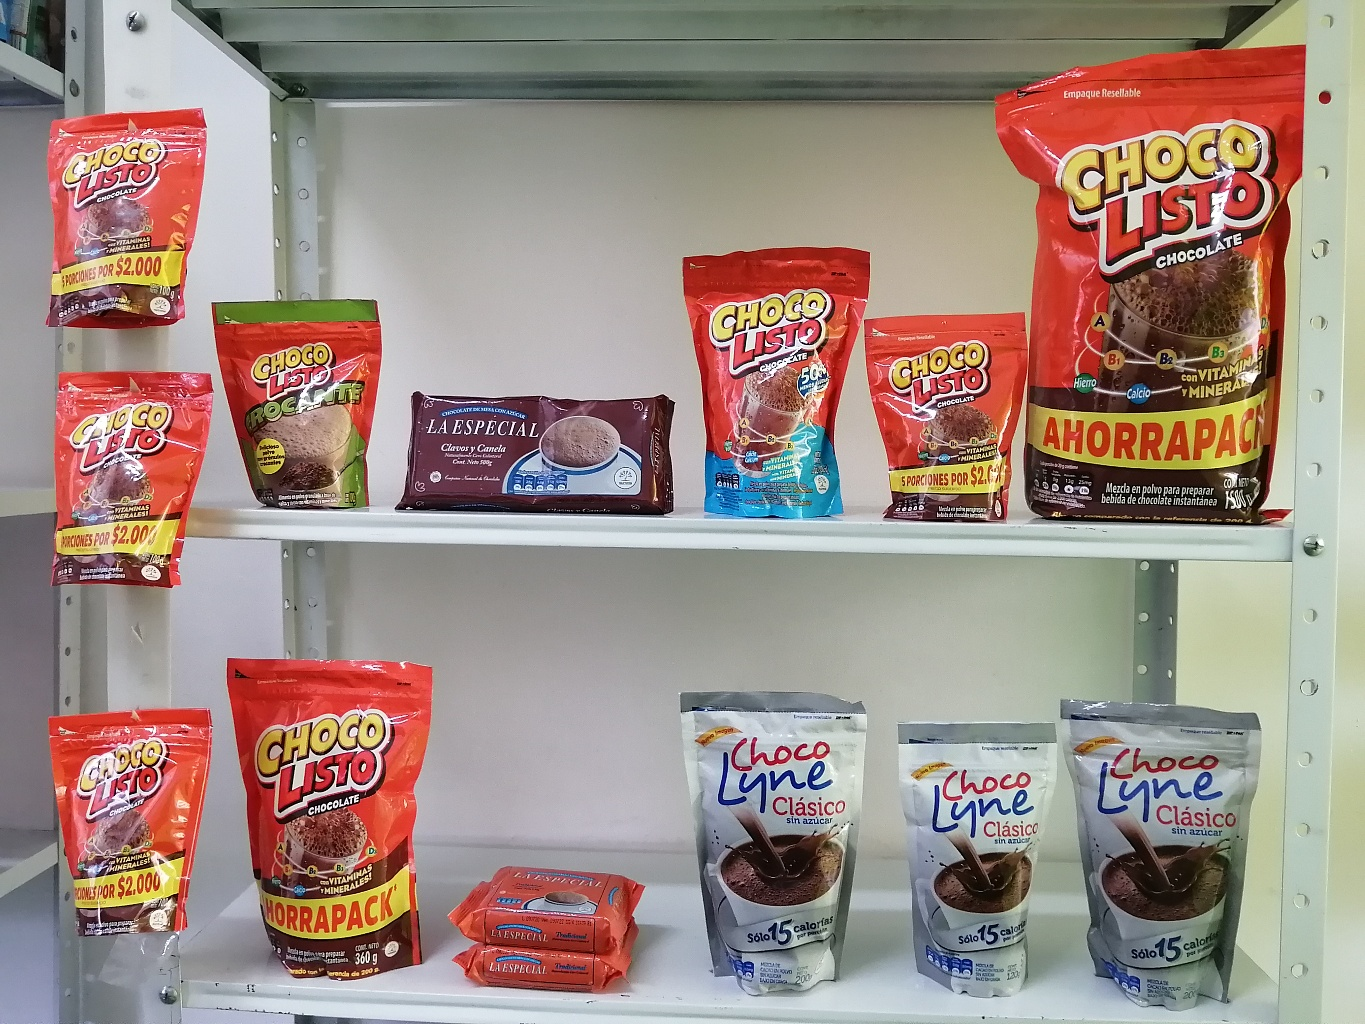COL0170102DYP10000: (215, 293, 393, 527)
COL0170103DYP1,500: (1001, 40, 1304, 529)
COL0170103DYP10000: (41, 108, 217, 331)
COL0170103DYP36000: (219, 663, 445, 981)
COL0170104DYP20000: (669, 243, 888, 512)
